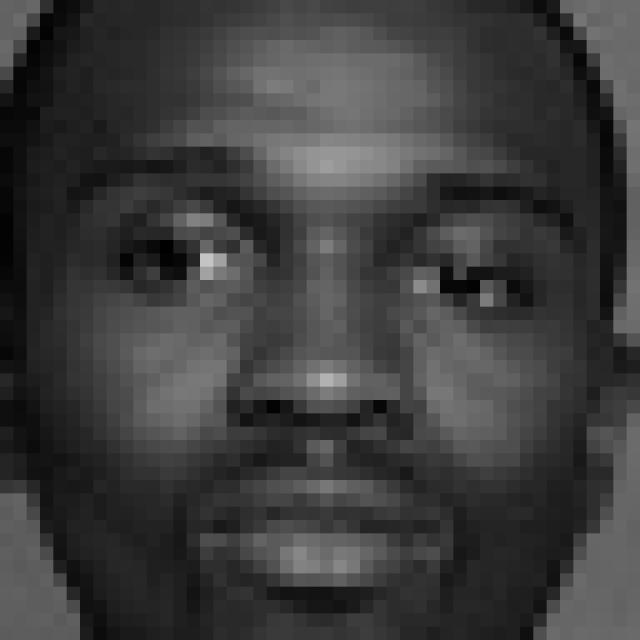neutral: (70, 136, 595, 612)
